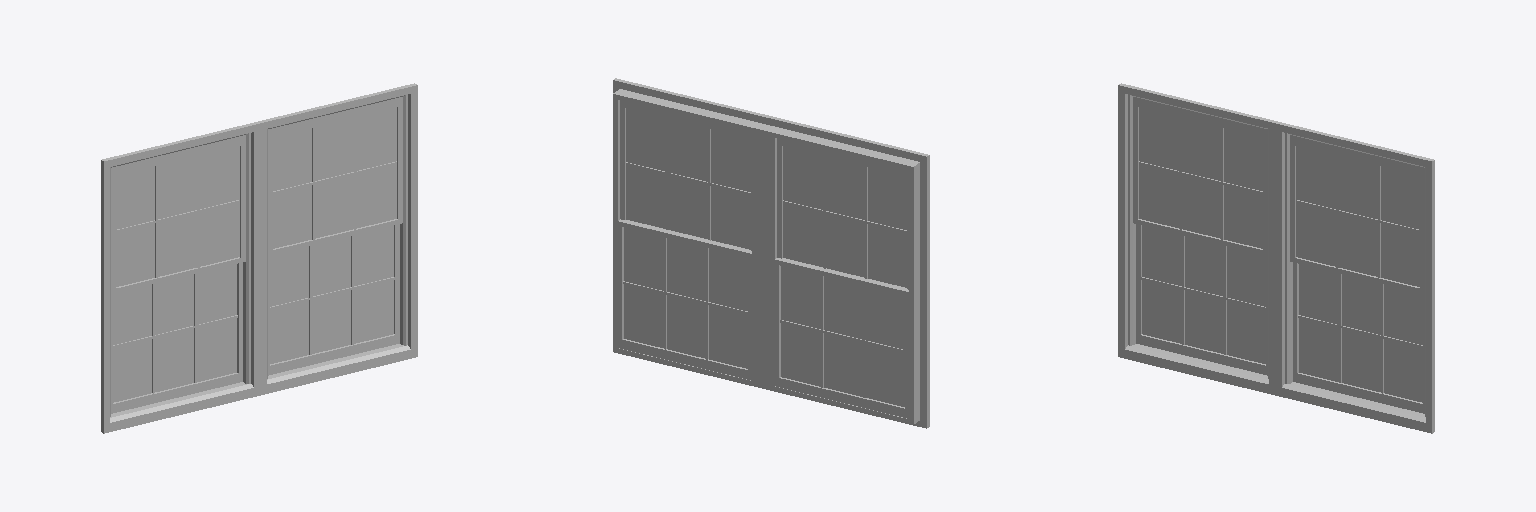
Rendered from window.obj.
The picture shows the model from 3 angles: view 1: azimuth 30°, elevation 25°; view 2: azimuth 150°, elevation 25°; view 3: azimuth 330°, elevation 25°; orthographic projection.
Parts seen in each view (by area): view 1: Group_22_001; view 2: Group_22_001; view 3: Group_22_001.
Part boxes in pixels (x1,y1,x2,y2): Group_22_001: (101, 83, 417, 433); Group_22_001: (613, 78, 929, 428); Group_22_001: (1118, 83, 1434, 433).
Size of the model in its own units: 1778 by 1473 by 92.08.